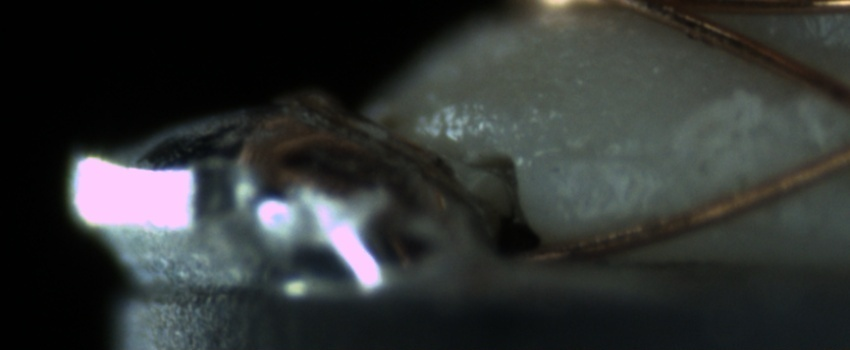DL: (541, 128, 669, 186)
